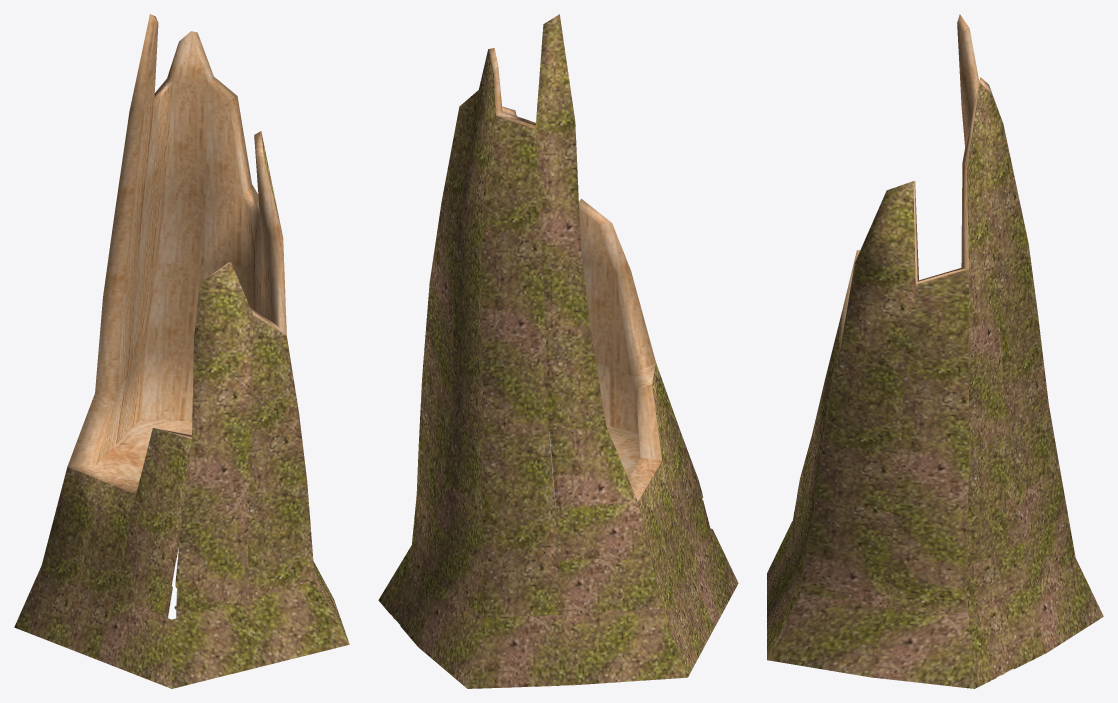
File: SM_Stump_03.FBX
The picture shows the model from 3 angles, left to right: view 1: azimuth 30°, elevation 25°; view 2: azimuth 150°, elevation 25°; view 3: azimuth 270°, elevation 25°; orthographic projection. The views are drawn at different scales.
Visible parts, largest first — view 1: Stump_03; view 2: Stump_03; view 3: Stump_03.
Boxes of the visible parts, x1=… form: Stump_03: x1=14, y1=14, x2=349, y2=688; Stump_03: x1=378, y1=14, x2=738, y2=688; Stump_03: x1=767, y1=14, x2=1103, y2=688.
Bounding box in the file's own units: 123 × 122 × 237.
